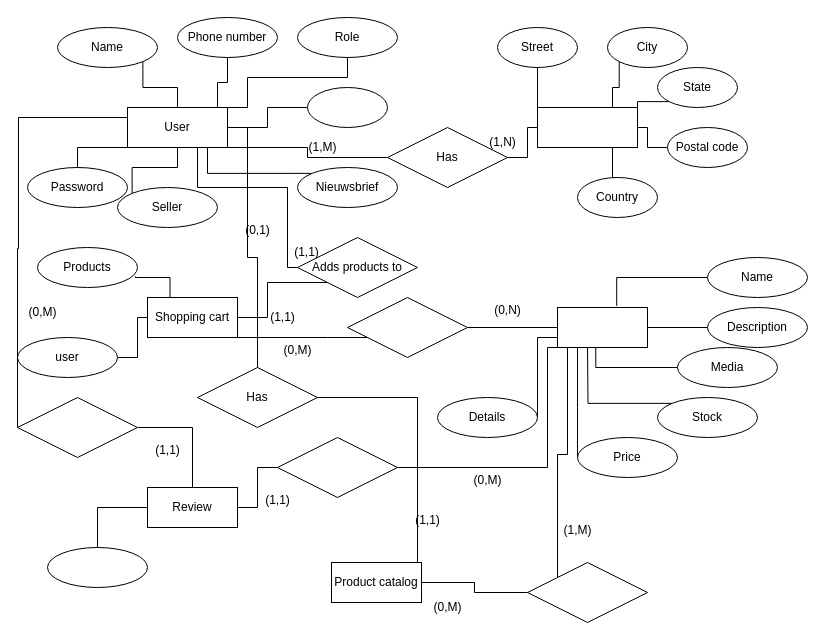
Some shapes in this 825 by 640 pixel diagram are drawn without their labels. Each missing label, with the centre of its shape:
"About" belongs at pixel 337 467.
"Added to" belongs at pixel 407 327.
"Adress" belongs at pixel 587 127.
"Contains" belongs at pixel 587 592.
"Email" belongs at pixel 347 107.
"Product" belongs at pixel 602 327.
"Review content" belongs at pixel 97 567.
"writes" belongs at pixel 77 427.
